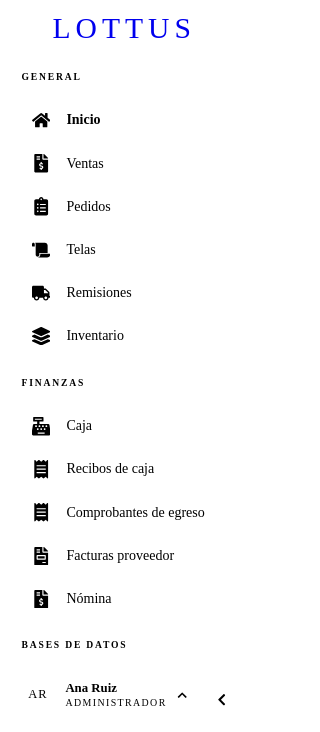
Perfil al pie del menú › muestra el usuario y abre sus opciones: perfil, gestión de usuarios y cerrar sesión
This screenshot has width=320, height=732.
Expected: the text "AR" is shown, x1=28 y1=687 x2=48 y2=701
Expected: the button "Mi Perfil" is not shown
Click the button "AR Ana Ruiz administrador".
click(104, 695)  # box x1=11 y1=670 x2=197 y2=720
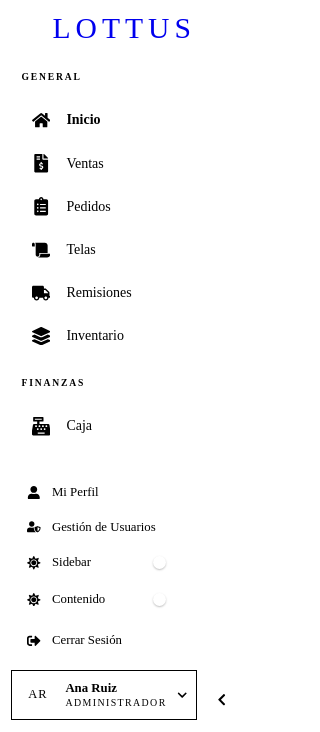
Result: the button "AR Ana Ruiz administrador" is expanded at x1=11 y1=670 x2=197 y2=720
Result: the button "Gestión de Usuarios" is shown at x1=17 y1=511 x2=192 y2=544
Click the button "Mi Perfil".
click(104, 493)  # box x1=17 y1=476 x2=192 y2=509
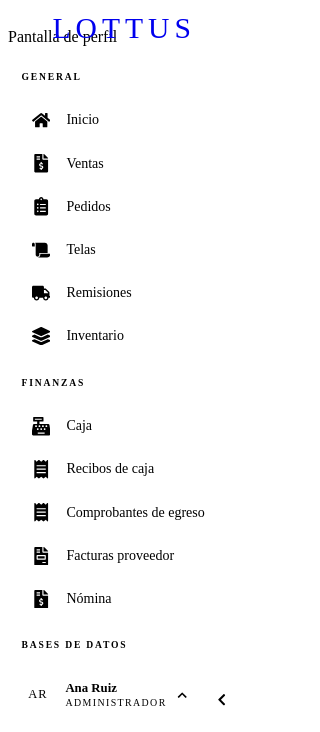
Result: the text "Pantalla de perfil" is shown at x1=8 y1=28 x2=117 y2=45
